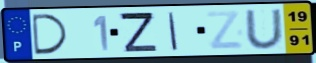1: (92, 14, 111, 52)
D: (30, 13, 71, 56)
I: (167, 11, 180, 52)
U: (243, 7, 286, 51)
Z: (117, 11, 159, 54), (204, 9, 245, 51)
